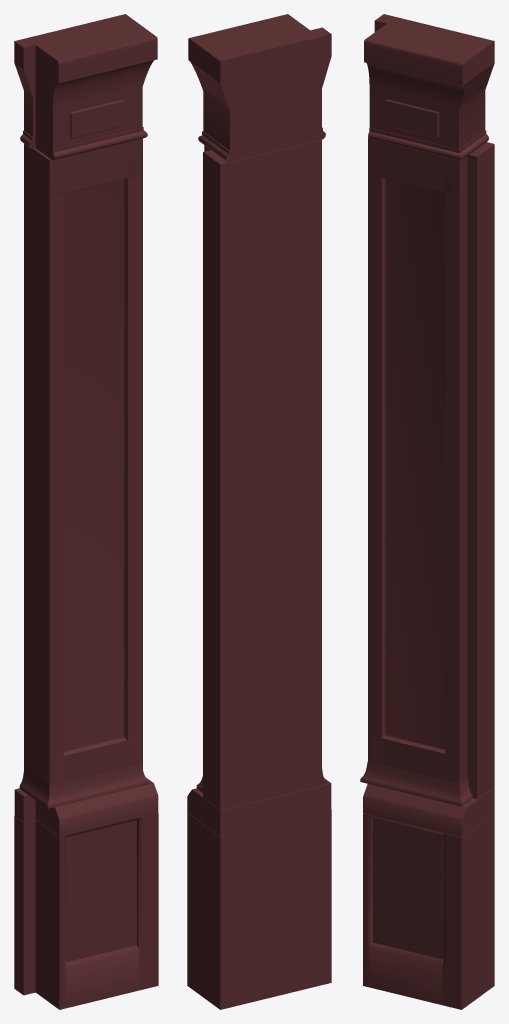
Rendered from pilaster.glb.
The picture shows the model from 3 angles, left to right: view 1: azimuth 30°, elevation 25°; view 2: azimuth 210°, elevation 25°; view 3: azimuth 330°, elevation 25°; orthographic projection.
Visible parts, largest first — view 1: pil_shaft, pil_plinth_body, pil_capital, pil_core, pil_plinth_cap, pil_ogee, pil_tablet; view 2: pil_core, pil_plinth_body, pil_capital, pil_plinth_cap; view 3: pil_shaft, pil_plinth_body, pil_core, pil_capital, pil_plinth_cap, pil_ogee, pil_tablet.
Part boxes in pixels (left/top/right/bottom): pil_shaft: left=41, top=139, right=141, bottom=785; pil_plinth_body: left=14, top=813, right=158, bottom=1009; pil_capital: left=14, top=14, right=157, bottom=160; pil_core: left=24, top=138, right=142, bottom=779; pil_plinth_cap: left=14, top=777, right=158, bottom=836; pil_ogee: left=19, top=763, right=149, bottom=808; pil_tablet: left=70, top=99, right=124, bottom=138; pil_core: left=203, top=140, right=321, bottom=809; pil_plinth_body: left=187, top=809, right=331, bottom=1009; pil_capital: left=188, top=14, right=331, bottom=162; pil_plinth_cap: left=187, top=778, right=331, bottom=836; pil_shaft: left=368, top=138, right=467, bottom=783; pil_plinth_body: left=363, top=813, right=494, bottom=1009; pil_core: left=467, top=142, right=494, bottom=799; pil_capital: left=364, top=14, right=494, bottom=160; pil_plinth_cap: left=363, top=784, right=494, bottom=837; pil_ogee: left=360, top=761, right=472, bottom=806; pil_tablet: left=385, top=99, right=439, bottom=138.
Bounding box in the file's own units: 0.35 × 2.85 × 0.1801.
